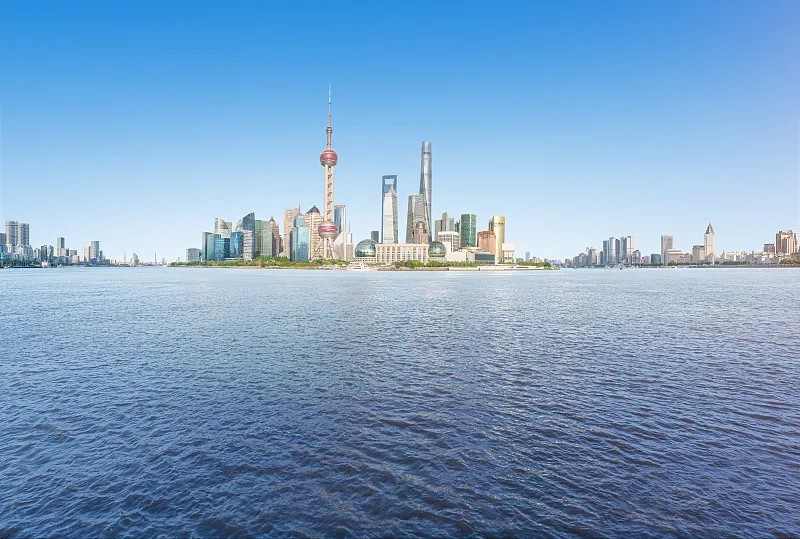Oriental: (310, 85, 338, 259)
